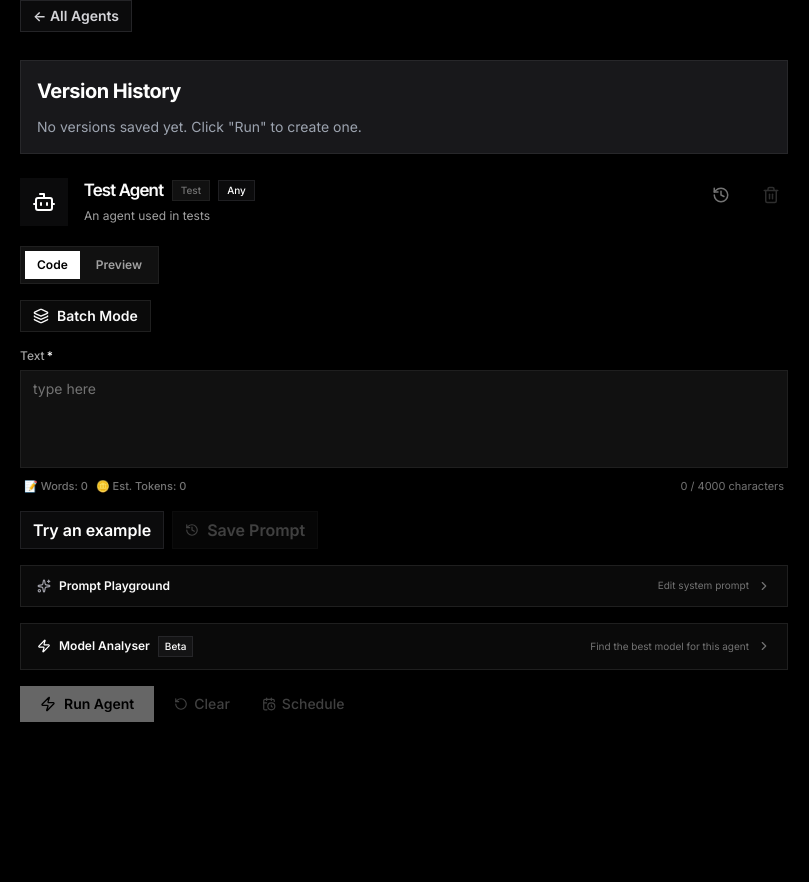
Test case: AgentRunner: stream cancellation lifecycle › Escape while streaming behaves like Clear
The width and height of the screenshot is (809, 882).
In the text box: (404,419) [20, 370, 788, 468], type "some input"
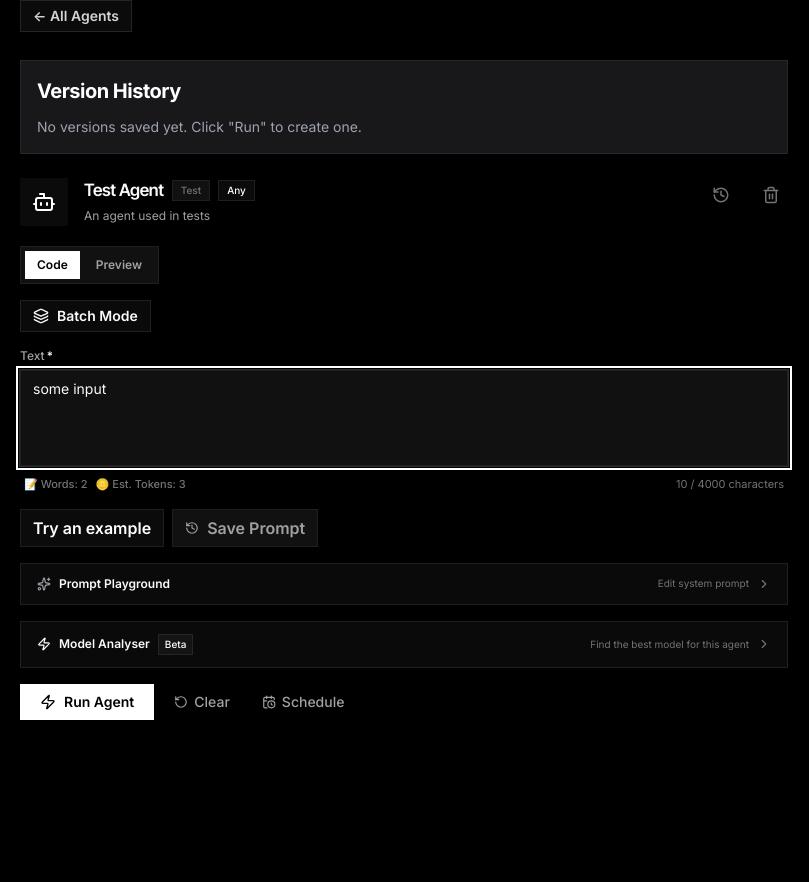
Expected: the button "Run Agent" is enabled
Click the button "Run Agent": (87,702) [20, 684, 154, 720]
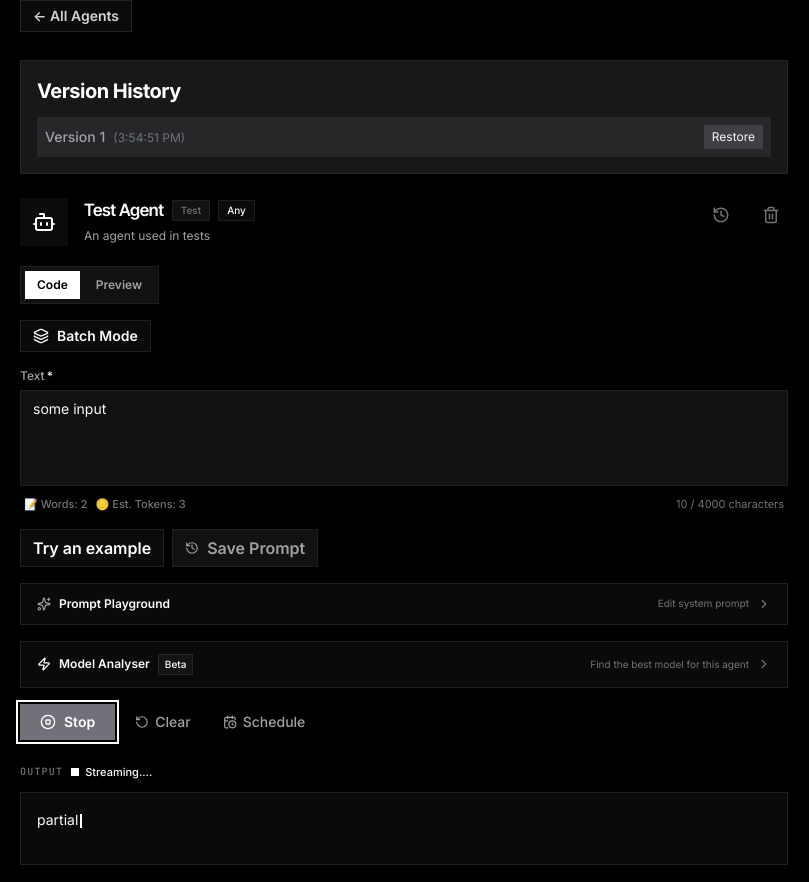
Press Escape
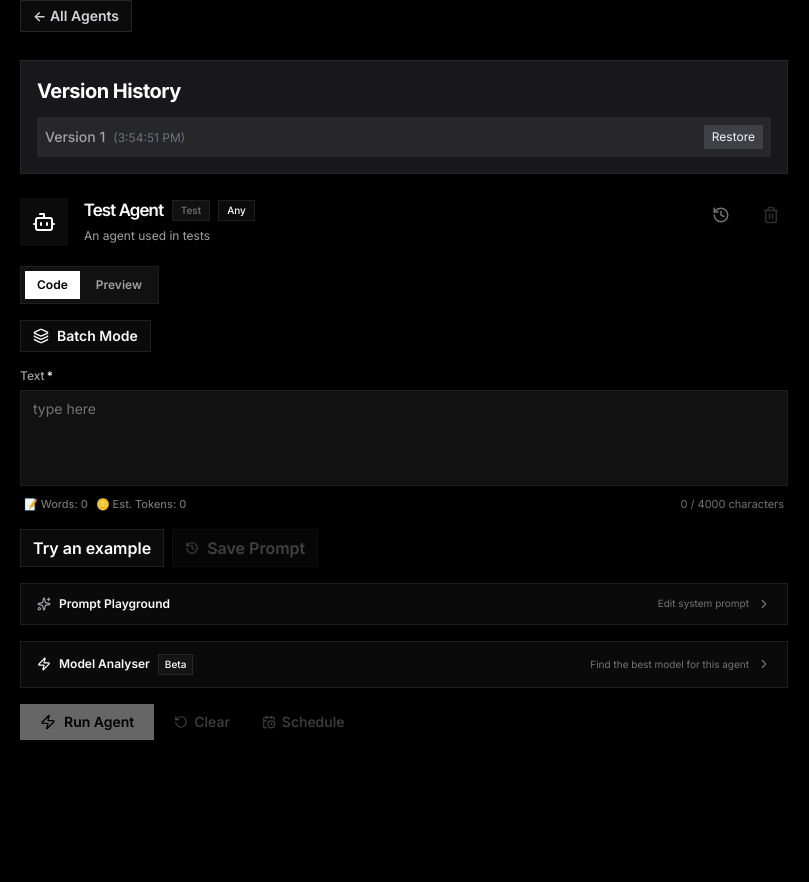
Expected: the button "Run Agent" is shown, [20, 704, 154, 740]
